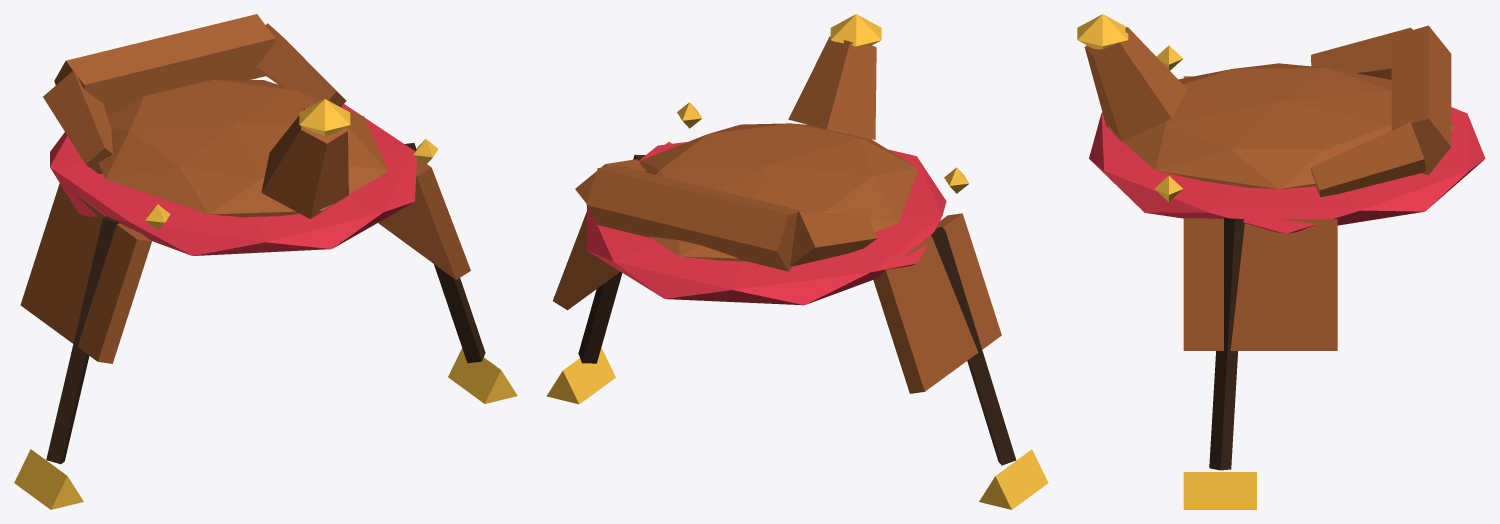
Rendered from saddle.glb.
3 views of the same model, side by side, from view 1: azimuth 30°, elevation 25°; view 2: azimuth 150°, elevation 25°; view 3: azimuth 270°, elevation 25° (orthographic).
Parts seen in each view (by area): view 1: saddle; view 2: saddle; view 3: saddle.
Part boxes in pixels (bbox=[...]): saddle: bbox=[14, 14, 517, 509]; saddle: bbox=[546, 14, 1048, 509]; saddle: bbox=[1077, 14, 1485, 509].
Size of the model in its own units: 1.46 by 1.15 by 1.11.
